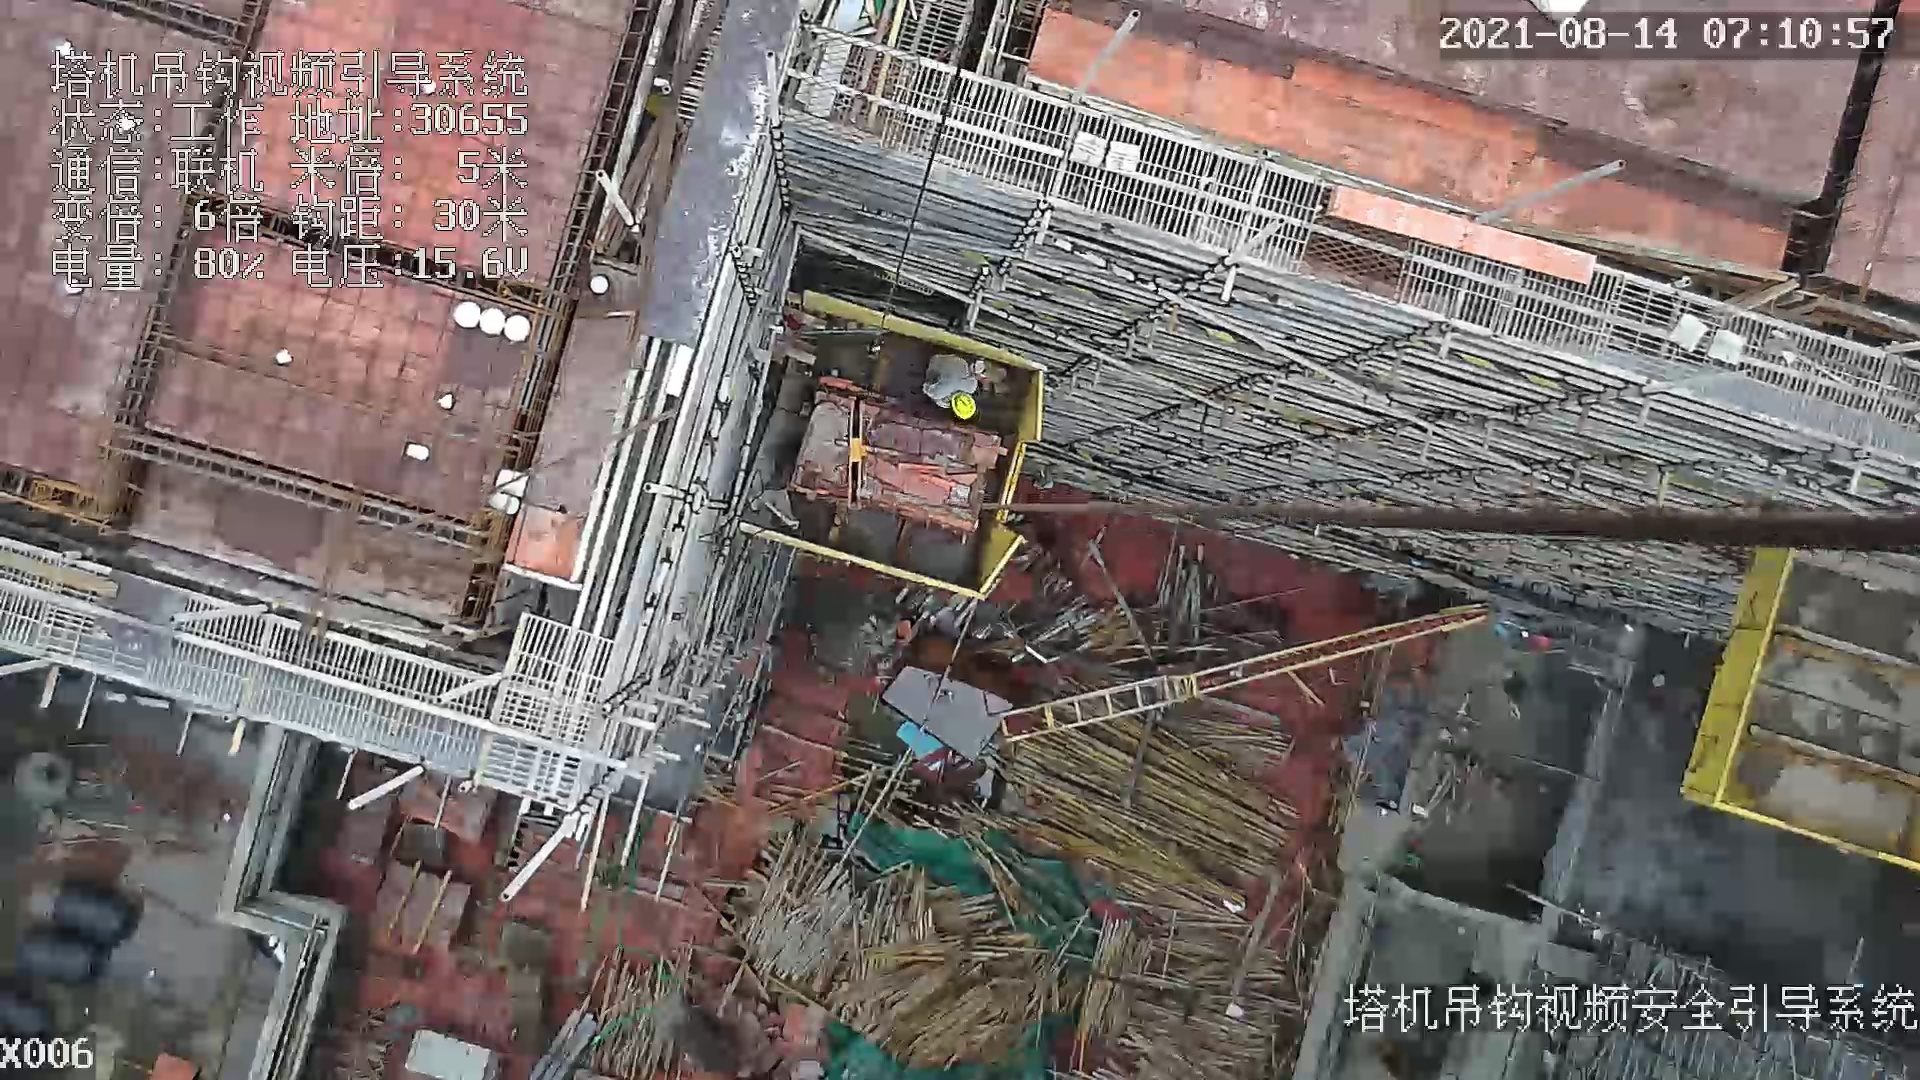helmet: (951, 389, 976, 420)
hook: (835, 392, 873, 509)
person: (929, 350, 991, 422)
